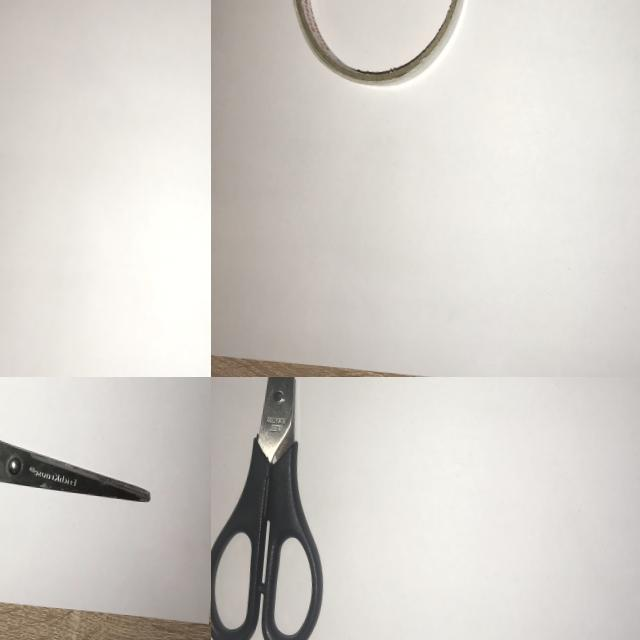scissors: (211, 377, 363, 640), (0, 377, 167, 545)
scotch: (274, 0, 485, 99)
